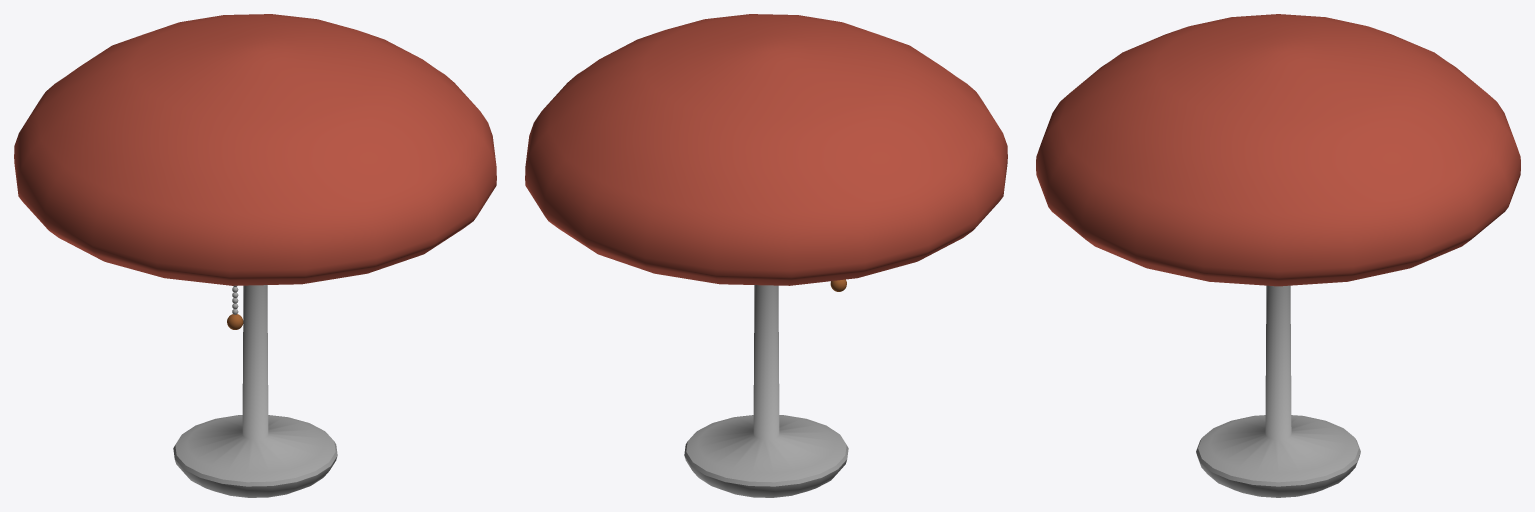
The model's file is Mesh_Mushroom_lamp_01.fbx.
3 views of the same model, side by side, from view 1: azimuth 30°, elevation 25°; view 2: azimuth 150°, elevation 25°; view 3: azimuth 270°, elevation 25° (orthographic).
Parts seen in each view (by area): view 1: Mushroom_lamp; view 2: Mushroom_lamp; view 3: Mushroom_lamp.
Part boxes in pixels (x1,y1,x2,y2): Mushroom_lamp: (14, 14, 496, 497); Mushroom_lamp: (525, 14, 1007, 497); Mushroom_lamp: (1036, 14, 1520, 497).
Bounding box in the file's own units: 42.17 × 40.84 × 42.17.
